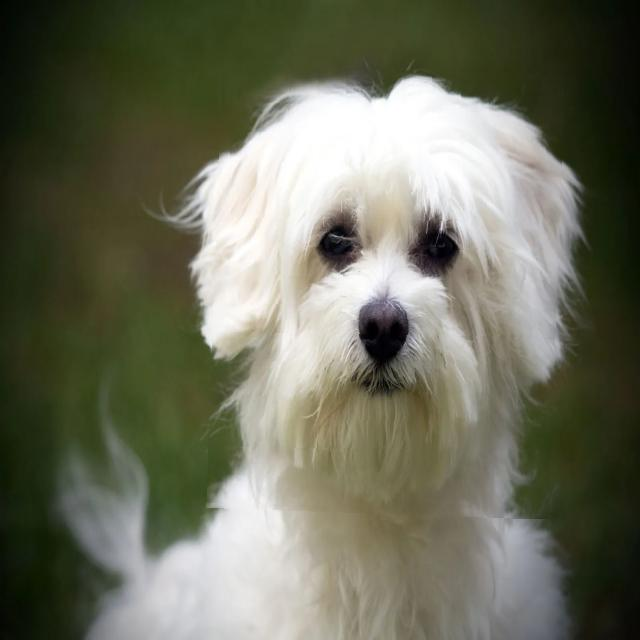maltese: (210, 66, 561, 517)
